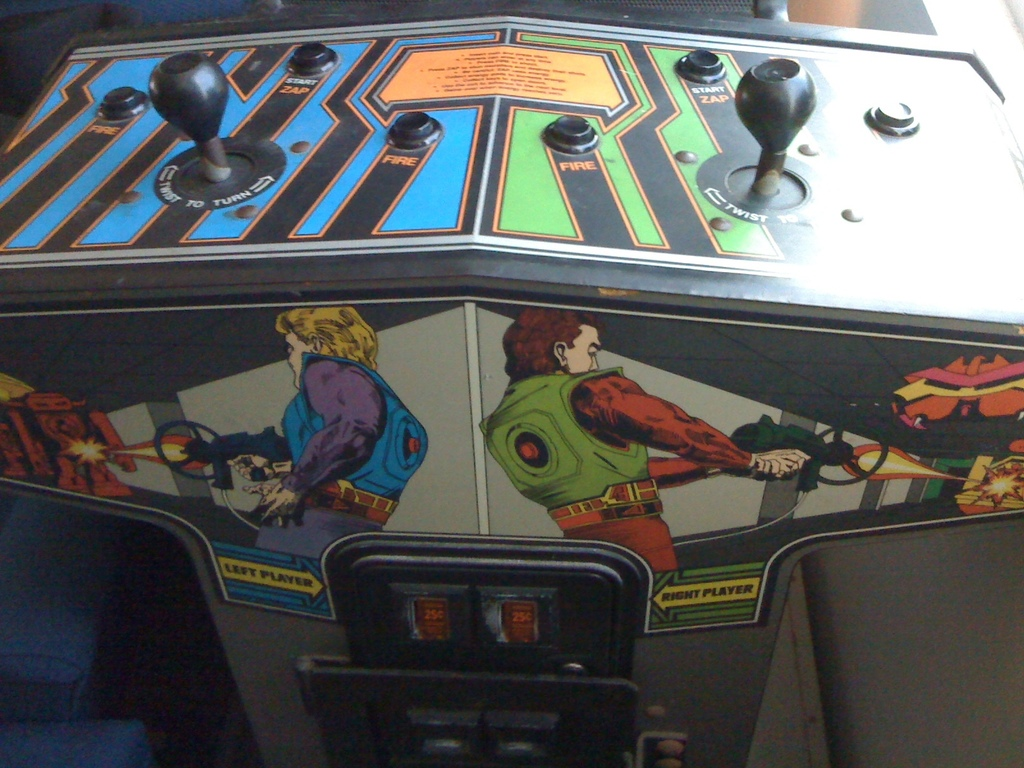Person: (478, 306, 811, 571), (226, 306, 428, 559)
